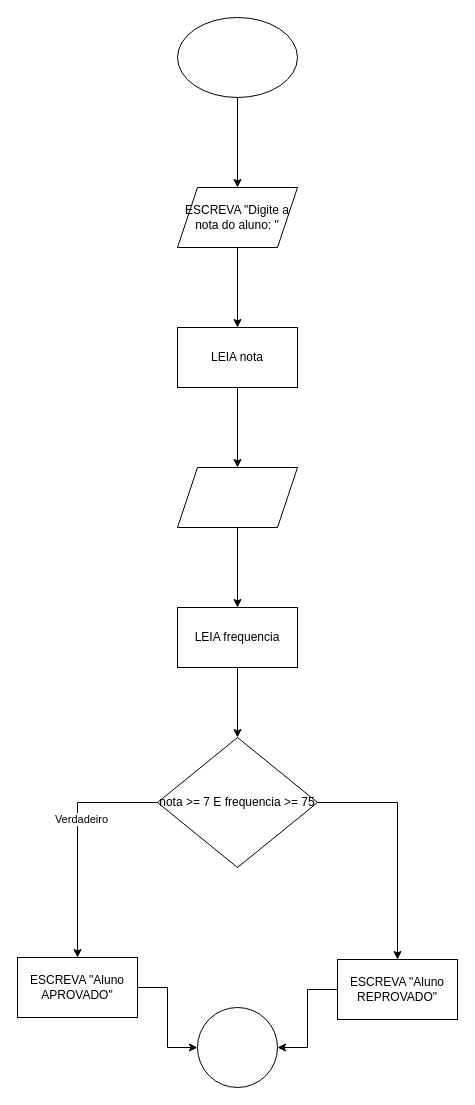
Some shapes in this 475 by 1105 pixel diagram are drawn without their labels. The box of each missing label's shape, as (x1, y1, x2, y2) in pixels:
ESCREVA "Digite a frequencia do aluno (%): ": (176, 466, 298, 528)
FIM: (196, 1006, 278, 1088)
INICIO: (176, 16, 298, 98)
